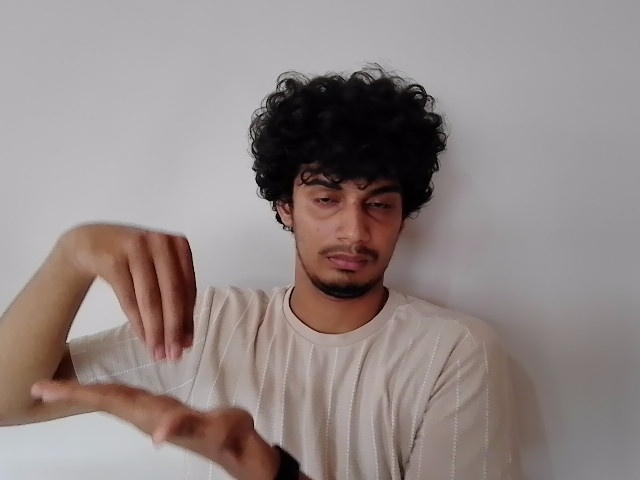learn: (27, 219, 268, 461)
